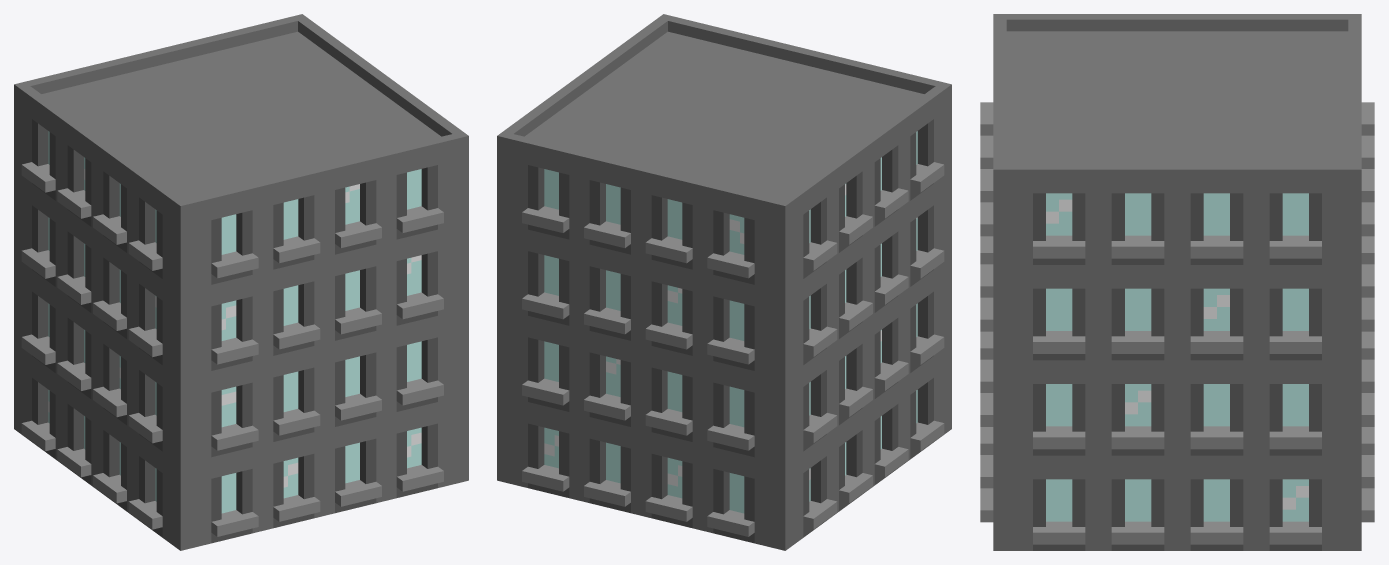
File: Building.obj
3 views of the same model, side by side, from view 1: azimuth 30°, elevation 25°; view 2: azimuth 150°, elevation 25°; view 3: azimuth 270°, elevation 25° (orthographic). The views are drawn at different scales.
Parts seen in each view (by area): view 1: Building; view 2: Building; view 3: Building.
Boxes of the visible parts, <box> form: Building: <box>14,14,468,550</box>; Building: <box>497,14,951,550</box>; Building: <box>980,14,1374,550</box>.
Size of the model in its own units: 30 by 32 by 30.
1 material, 1 textured.
